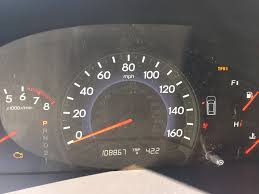Digital_Meter: (100, 144, 165, 160)
